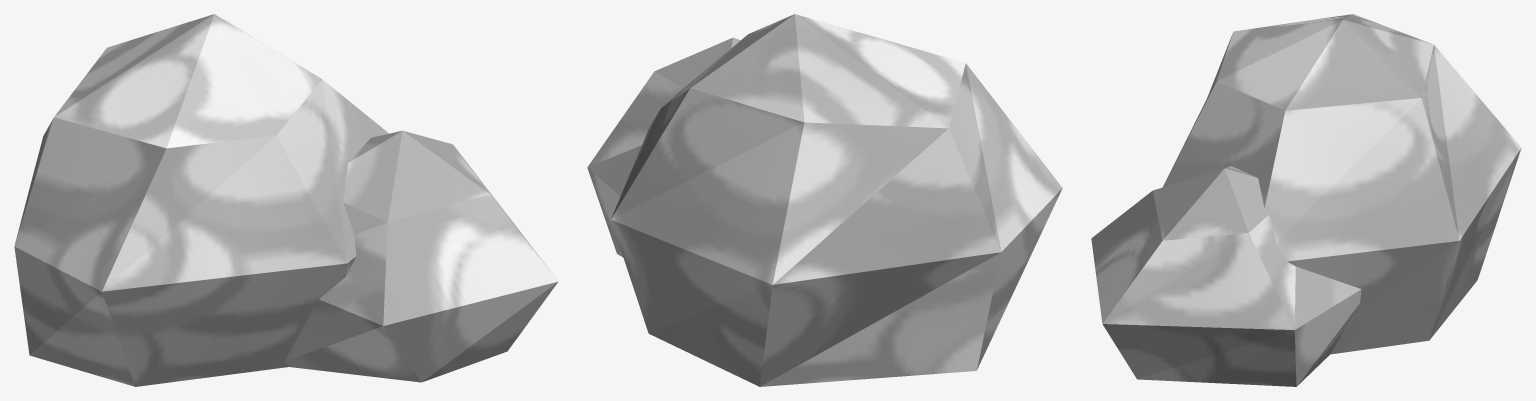
Rendered from bush_2.obj.
3 views of the same model, side by side, from view 1: azimuth 30°, elevation 25°; view 2: azimuth 150°, elevation 25°; view 3: azimuth 270°, elevation 25° (orthographic). The views are drawn at different scales.
Parts seen in each view (by area): view 1: bush_2; view 2: bush_2; view 3: bush_2.
Part boxes in pixels (<box>): bush_2: <box>14,14,558,386</box>; bush_2: <box>587,14,1062,386</box>; bush_2: <box>1091,14,1521,386</box>.
Size of the model in its own units: 0.6276 by 0.42 by 0.5898.
